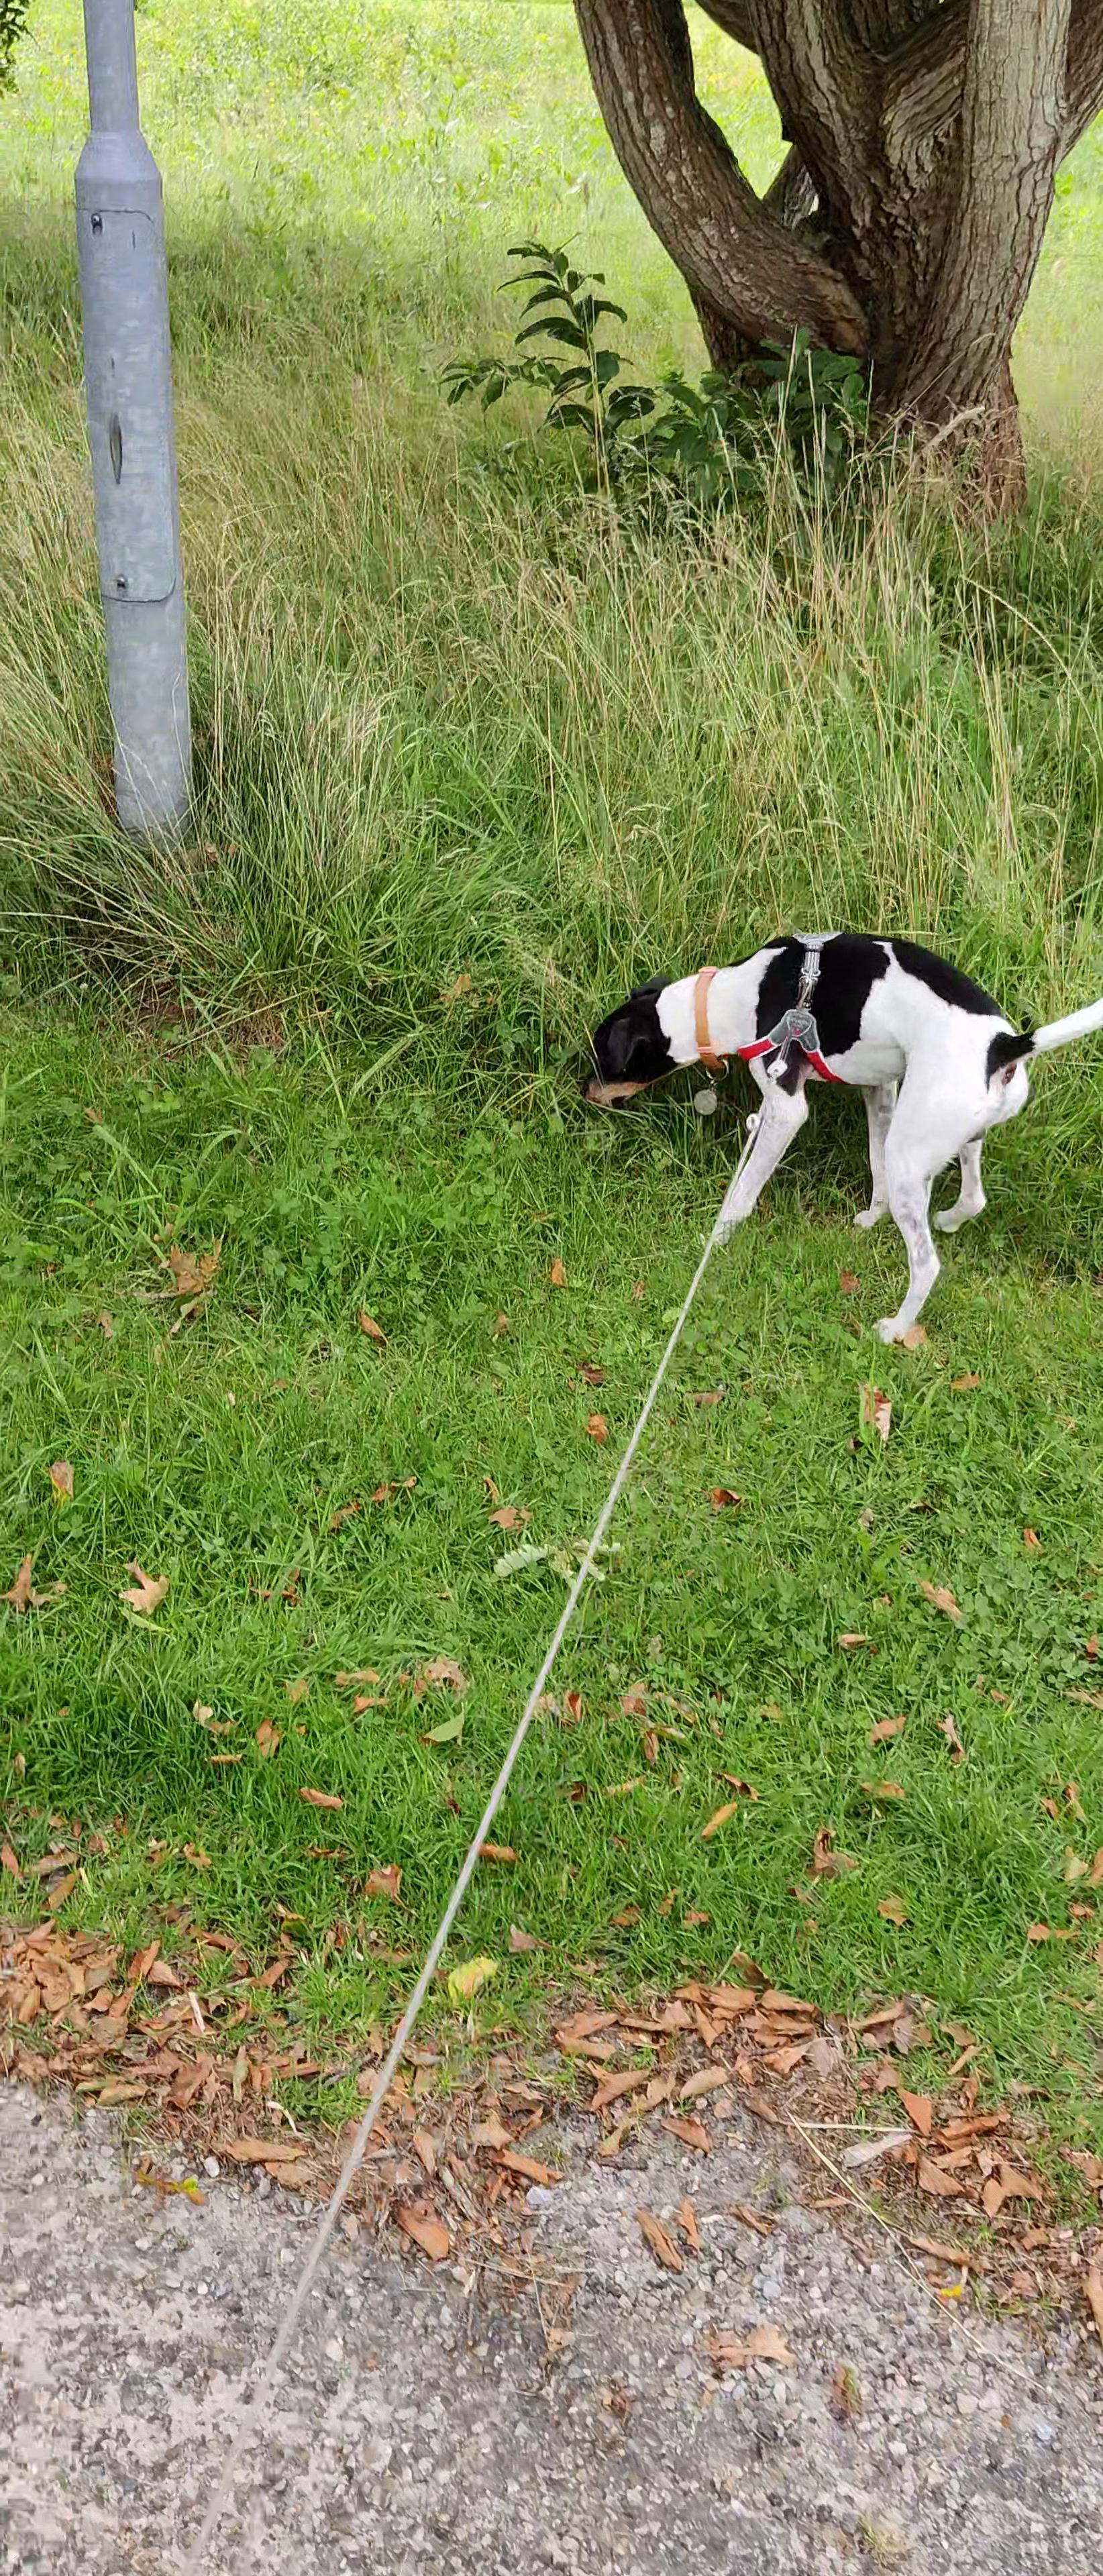Dog: (582, 925, 1103, 1350)
